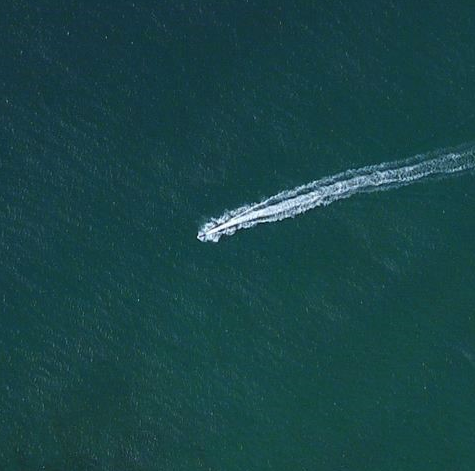ship: (195, 229, 213, 244)
